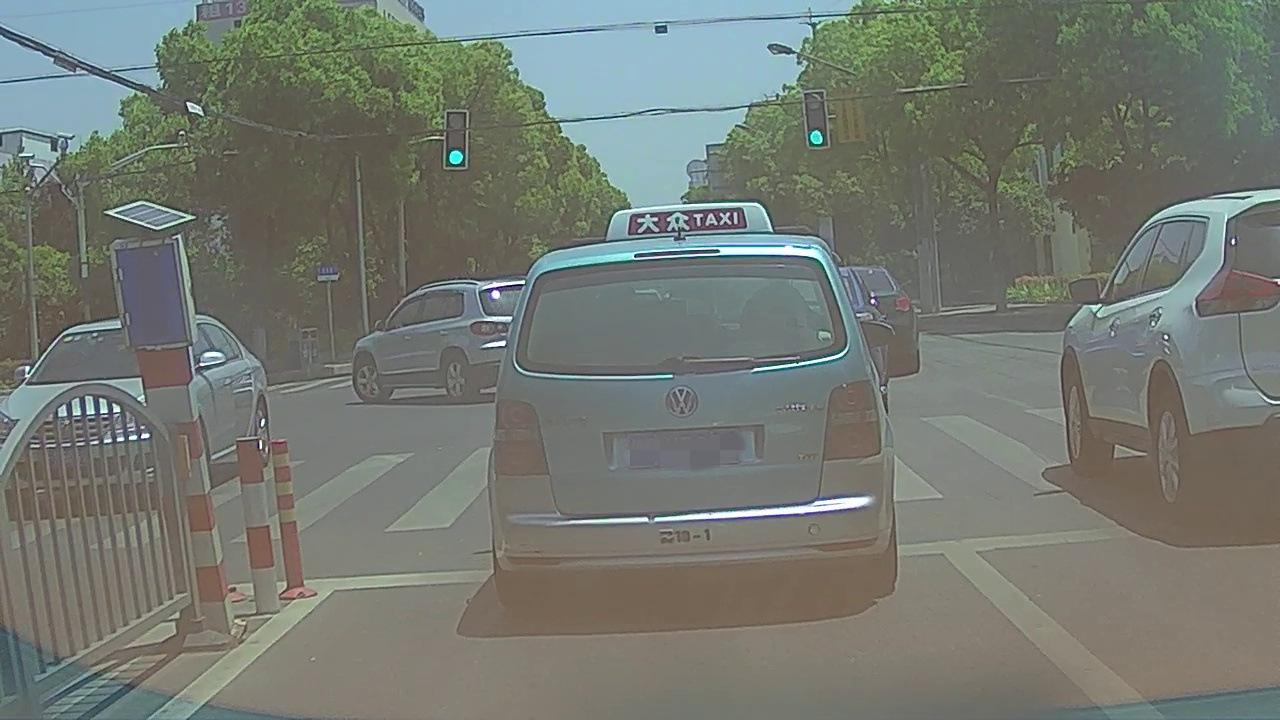traffic_light: (806, 92, 829, 147), (445, 110, 466, 167)
